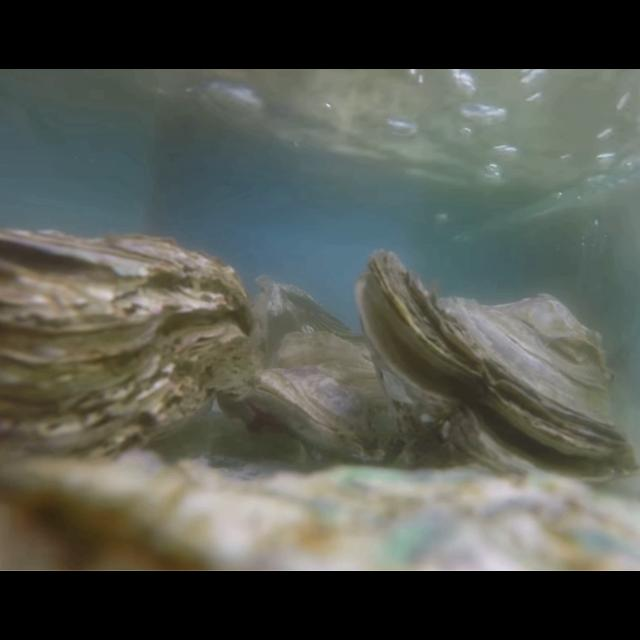Oyster-Closed: (0, 451, 640, 571), (0, 230, 254, 480), (256, 330, 414, 468), (254, 270, 370, 360)
Oyster-Open: (356, 251, 640, 494)
